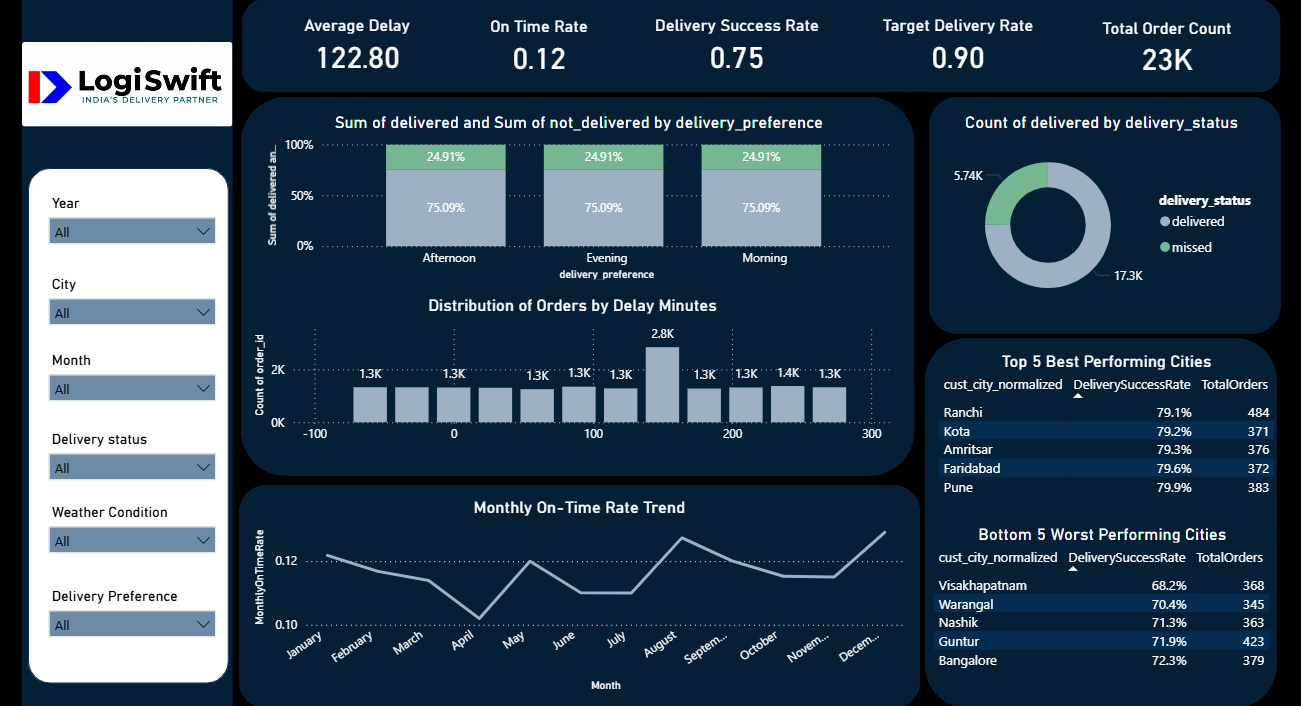

The dashboard page shown, as its layout file describes it:
{"tool":"powerbi","page":{"name":"DAshboard","canvas":[1280,720],"ordinal":1},"visuals":[{"type":"shape","box":[224,-1.2,1056.3,95.2],"z":0,"group":"g3"},{"type":"group","id":"g1","title":"Group 3","box":[223,99,684.7,385.4],"z":0},{"type":"shape","box":[223,99,684.7,385.4],"z":0,"group":"g1"},{"type":"group","id":"g2","title":"Group 1","box":[0,0,214.5,720.3],"z":1000},{"type":"shape","box":[0,0,214.4,720.3],"z":1000,"group":"g2"},{"type":"shape","box":[918.7,344.1,357.8,376.2],"z":1500,"group":"g5"},{"type":"group","id":"g3","title":"Group 2","box":[224,-1.2,1056.3,95.2],"z":2000},{"type":"card","title":"On Time Rate","fields":{"Values":[" Mesure Table.OnTimeRate"]},"box":[438,16.5,177.2,67.7],"z":2000,"group":"g3"},{"type":"shape","box":[922.2,98.6,357.8,240.9],"z":2500,"group":"g4"},{"type":"image","box":[0,42.4,214.5,86],"z":3000,"group":"g2"},{"type":"shape","box":[220.2,493.2,692.8,227.1],"z":3000},{"type":"donutChart","fields":{"Category":["master_table_cleaned.delivery_status"],"Y":["CountNonNull(master_table_cleaned.delivered)"]},"box":[925.7,113.5,344.9,211],"z":4000,"group":"g4"},{"type":"shape","box":[5.7,170.9,204.2,524.2],"z":4000,"group":"g2"},{"type":"lineChart","title":"Monthly On-Time Rate Trend","fields":{"Category":["master_table_cleaned.OrderDateOnly.Variation.Date Hierarchy.Month"],"Y":[" Mesure Table.MonthlyOnTimeRate"]},"box":[230.5,505.8,672.1,201.9],"z":4000},{"type":"card","title":"Average Delay","fields":{"Values":[" Mesure Table.AvgDelay"]},"box":[247.2,15.3,187.6,68.8],"z":5000,"group":"g3"},{"type":"tableEx","title":"Top 5 Best Performing Cities","fields":{"Values":["master_table_cleaned.cust_city_normalized"," Mesure Table.DeliverySuccessRate"," Mesure Table.TotalOrders"]},"box":[926.6,357,353.3,169.8],"z":5000,"group":"g5"},{"type":"card","title":"Total Order Count","fields":{"Values":[" Mesure Table.OrderCount"]},"box":[1068,17.6,193.4,66.5],"z":6000,"group":"g3"},{"type":"hundredPercentStackedColumnChart","fields":{"Category":["master_table_cleaned.delivery_preference"],"Y":["Sum(master_table_cleaned.delivered)","Sum(master_table_cleaned.not_delivered)"]},"box":[244.3,113.5,644.6,175.5],"z":6000},{"type":"tableEx","title":"Bottom 5 Worst Performing Cities","fields":{"Values":["master_table_cleaned.cust_city_normalized"," Mesure Table.DeliverySuccessRate"," Mesure Table.TotalOrders"]},"box":[922,532.8,354.5,185.2],"z":6000,"group":"g5"},{"type":"card","title":"Delivery Success Rate","fields":{"Values":[" Mesure Table.DeliverySuccessRate"]},"box":[618.3,15.3,217.8,68.8],"z":7000,"group":"g3"},{"type":"columnChart","title":"Distribution of Orders by Delay Minutes","fields":{"Y":["CountNonNull(master_table_cleaned.order_id)"],"Category":["master_table_cleaned.delay_minutes (bins)"]},"box":[230.5,300.5,658.4,159.4],"z":7000},{"type":"group","id":"g4","title":"Group 3","box":[922.2,98.6,357.8,240.9],"z":8000},{"type":"slicer","fields":{"Values":["master_table_cleaned.delivery_status"]},"box":[16,432,192,64],"z":8000,"group":"g2"},{"type":"card","title":"Target Delivery Rate","fields":{"Values":[" Mesure Table.TargetDeliveryRate"]},"box":[839.1,15.3,225.9,68.8],"z":9000,"group":"g3"},{"type":"group","id":"g5","title":"Group 4","box":[918.7,344.1,361.3,376.2],"z":9000},{"type":"slicer","fields":{"Values":["master_table_cleaned.cust_city_normalized"]},"box":[16,274.7,192,80],"z":10000,"group":"g2"},{"type":"slicer","title":"Year","fields":{"Values":["orders_cleaned.order_date.Variation.Date Hierarchy.Year"]},"box":[16,192,192,80],"z":11000,"group":"g2"},{"type":"slicer","fields":{"Values":["orders_cleaned.order_date.Variation.Date Hierarchy.Month"]},"box":[16,352,192,80],"z":12000,"group":"g2"},{"type":"slicer","fields":{"Values":["external_cleaned.weather_condition"]},"box":[16,506.8,192,80],"z":13000,"group":"g2"},{"type":"slicer","fields":{"Values":["orders_cleaned.delivery_preference"]},"box":[16,592,192,80],"z":14000,"group":"g2"}]}

Visuals, with their boxes on the page's 1280x720 design canvas (x1, y1, x2, y2). These are canvas units, not pixel positions in the 1301x706 screenshot, which may show the page scaled, cropped or inside an application window:
shape: [left=224, top=-1, right=1280, bottom=94]
"Group 3" group: [left=223, top=99, right=908, bottom=484]
shape: [left=223, top=99, right=908, bottom=484]
"Group 1" group: [left=0, top=0, right=214, bottom=720]
shape: [left=0, top=0, right=214, bottom=720]
shape: [left=919, top=344, right=1276, bottom=720]
"Group 2" group: [left=224, top=-1, right=1280, bottom=94]
"On Time Rate" card: [left=438, top=16, right=615, bottom=84]
shape: [left=922, top=99, right=1280, bottom=340]
image: [left=0, top=42, right=214, bottom=128]
shape: [left=220, top=493, right=913, bottom=720]
donutChart - master_table_cleaned.delivery_status x CountNonNull(master_table_cleaned.delivered): [left=926, top=114, right=1271, bottom=324]
shape: [left=6, top=171, right=210, bottom=695]
"Monthly On-Time Rate Trend" lineChart: [left=230, top=506, right=903, bottom=708]
"Average Delay" card: [left=247, top=15, right=435, bottom=84]
"Top 5 Best Performing Cities" tableEx: [left=927, top=357, right=1280, bottom=527]
"Total Order Count" card: [left=1068, top=18, right=1261, bottom=84]
hundredPercentStackedColumnChart - master_table_cleaned.delivery_preference x Sum(master_table_cleaned.delivered): [left=244, top=114, right=889, bottom=289]
"Bottom 5 Worst Performing Cities" tableEx: [left=922, top=533, right=1276, bottom=718]
"Delivery Success Rate" card: [left=618, top=15, right=836, bottom=84]
"Distribution of Orders by Delay Minutes" columnChart: [left=230, top=300, right=889, bottom=460]
"Group 3" group: [left=922, top=99, right=1280, bottom=340]
slicer - master_table_cleaned.delivery_status: [left=16, top=432, right=208, bottom=496]
"Target Delivery Rate" card: [left=839, top=15, right=1065, bottom=84]
"Group 4" group: [left=919, top=344, right=1280, bottom=720]
slicer - master_table_cleaned.cust_city_normalized: [left=16, top=275, right=208, bottom=355]
"Year" slicer: [left=16, top=192, right=208, bottom=272]
slicer - orders_cleaned.order_date.Variation.Date Hierarchy.Month: [left=16, top=352, right=208, bottom=432]
slicer - external_cleaned.weather_condition: [left=16, top=507, right=208, bottom=587]
slicer - orders_cleaned.delivery_preference: [left=16, top=592, right=208, bottom=672]
